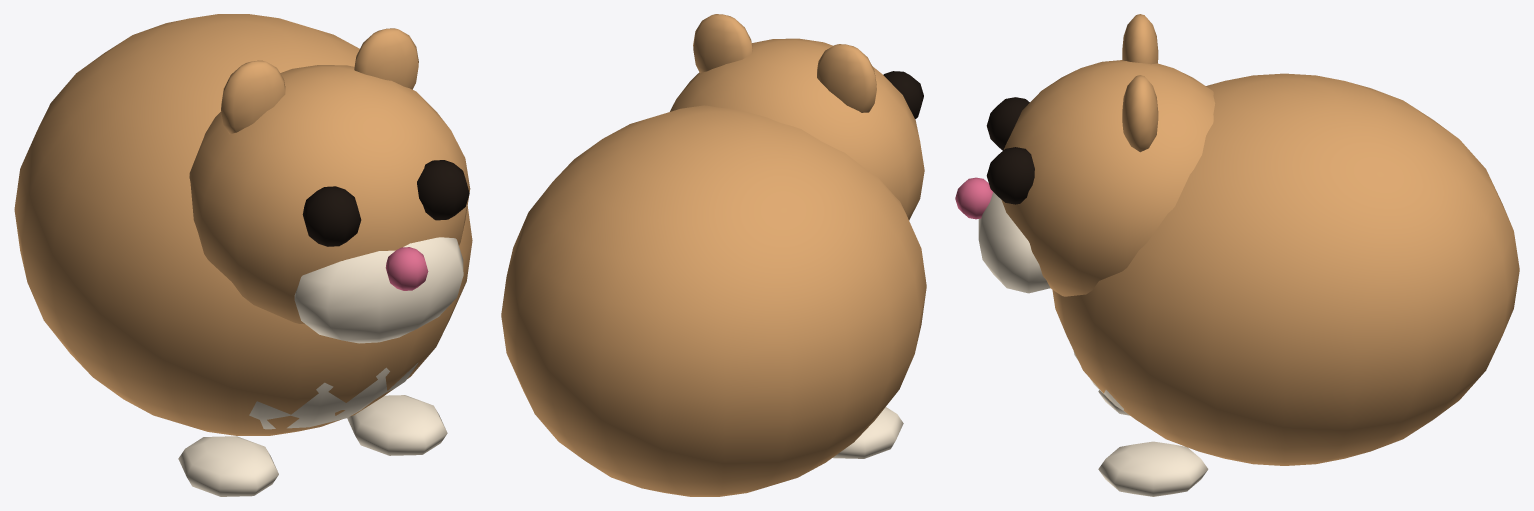
The model's file is h26-hamster.glb.
3 views of the same model, side by side, from view 1: azimuth 30°, elevation 25°; view 2: azimuth 150°, elevation 25°; view 3: azimuth 270°, elevation 25° (orthographic). The views are drawn at different scales.
Visible parts, largest first — view 1: Hamster, head; view 2: Hamster, head; view 3: Hamster, head.
Part boxes in pixels (left/top/right/bottom): Hamster: left=14, top=14, right=472, bottom=496; head: left=189, top=28, right=470, bottom=343; Hamster: left=501, top=105, right=926, bottom=496; head: left=670, top=14, right=924, bottom=220; Hamster: left=1052, top=73, right=1519, bottom=496; head: left=955, top=14, right=1215, bottom=296.
Bounding box in the file's own units: 0.32 × 0.3395 × 0.4302.
